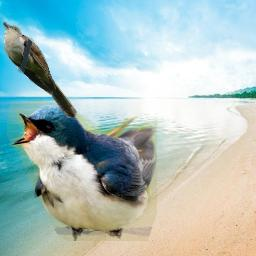Cuckoo: (3, 22, 77, 118)
Swallow: (7, 100, 157, 241)
